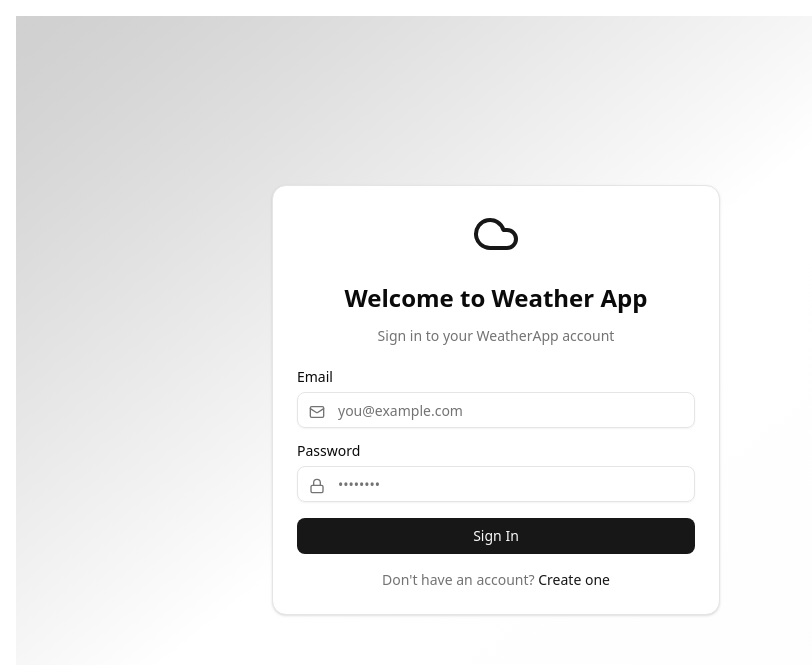
Login Component › L-F1, L-F3, L-F4: handles generic API login failure correctly
Type "wrong@test.com" into the field labelled "Email". click: (496, 410)
box: left=297, top=392, right=695, bottom=428
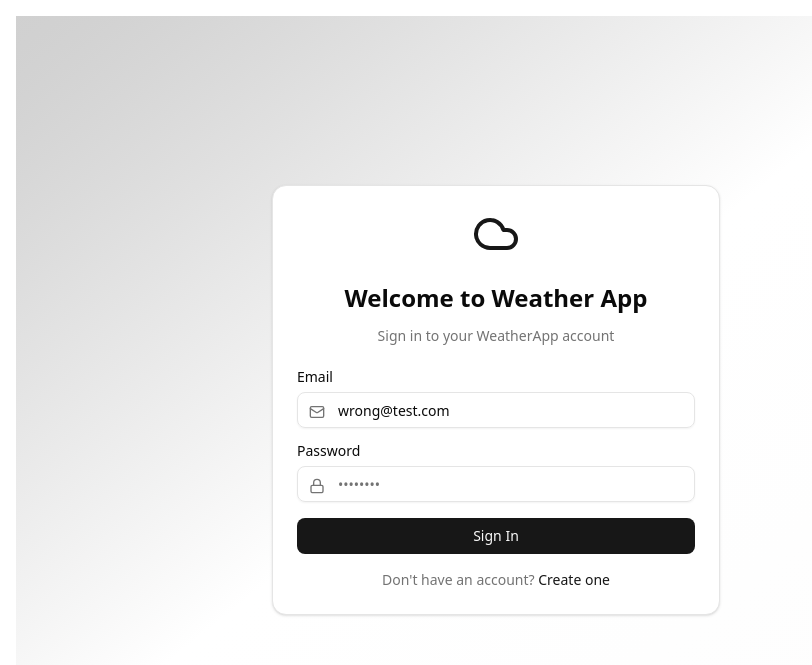
Type "wrongpass" into the password field labelled "Password". click: (496, 484)
box: left=297, top=466, right=695, bottom=502
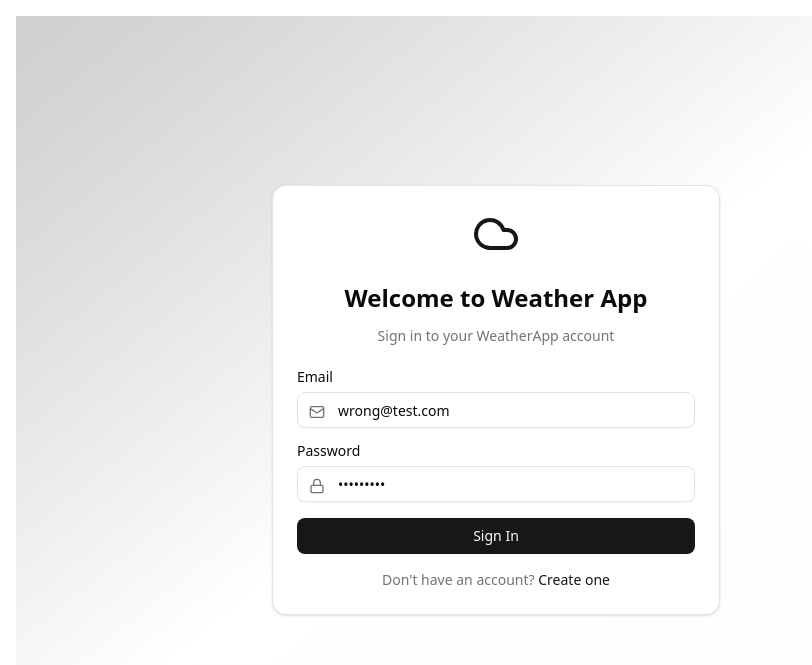
Click the button "Sign In". click: click(496, 536)
box: left=297, top=518, right=695, bottom=554
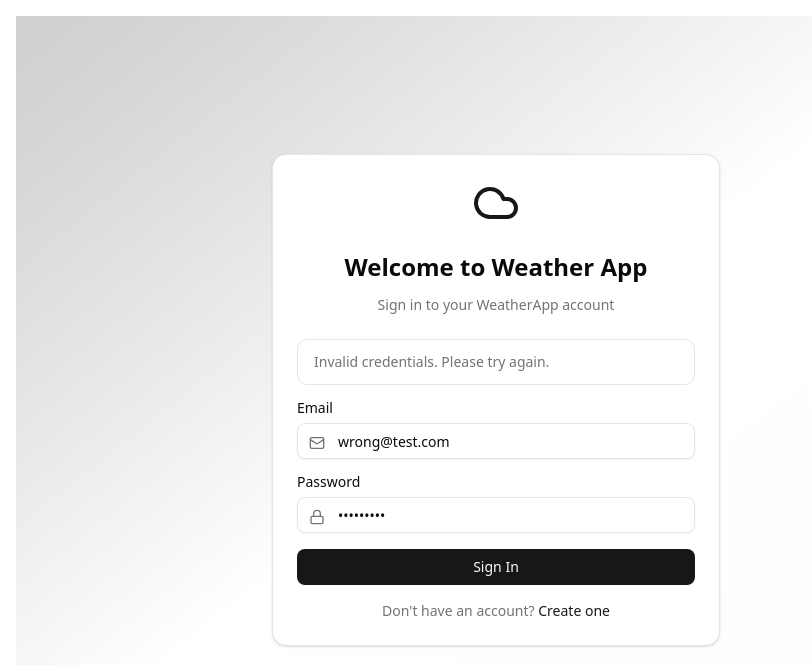
Check: the button "Sign In" is enabled, box left=297, top=549, right=695, bottom=585
Check: the text "Invalid credentials. Please try again." is shown, box left=314, top=352, right=549, bottom=371
